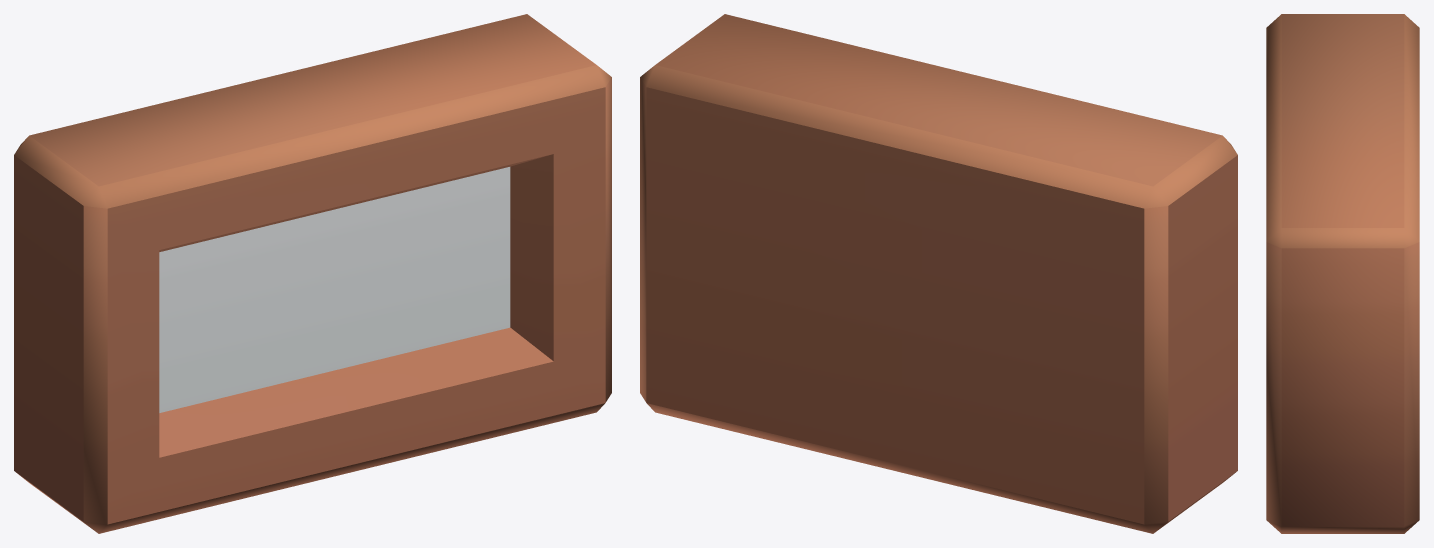
File: pictureframe_small_B.glb
The picture shows the model from 3 angles, left to right: view 1: azimuth 30°, elevation 25°; view 2: azimuth 150°, elevation 25°; view 3: azimuth 270°, elevation 25°; orthographic projection. The views are drawn at different scales.
Parts seen in each view (by area): view 1: pictureframe_small_B; view 2: pictureframe_small_B; view 3: pictureframe_small_B.
Part boxes in pixels (x1=…): pictureframe_small_B: x1=14, y1=14, x2=611, y2=533; pictureframe_small_B: x1=640, y1=14, x2=1237, y2=533; pictureframe_small_B: x1=1266, y1=14, x2=1419, y2=533.
Size of the model in its own units: 0.7 by 0.44 by 0.2.
Materials: 1 (1 with a texture image).
